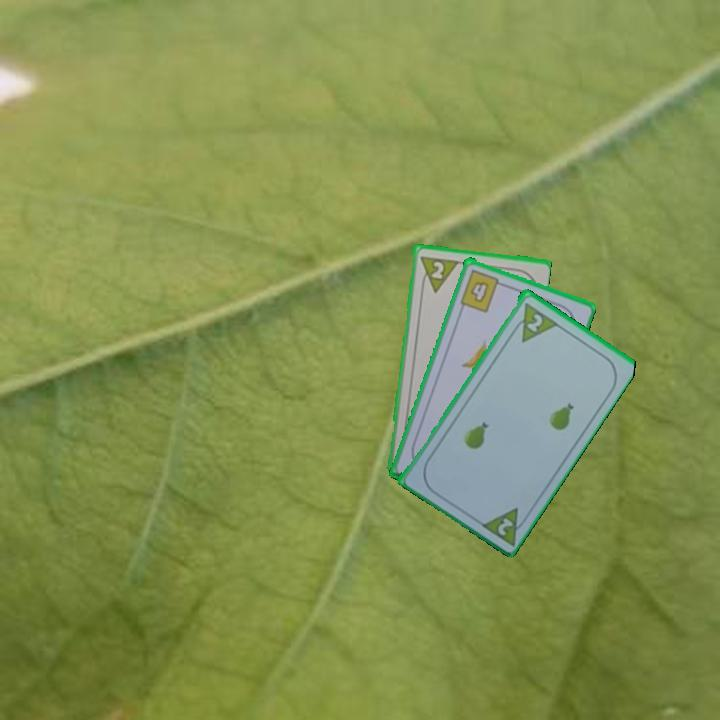2p: (507, 298, 559, 345), (494, 514, 516, 538), (428, 258, 447, 282)
4b: (456, 265, 508, 315)
